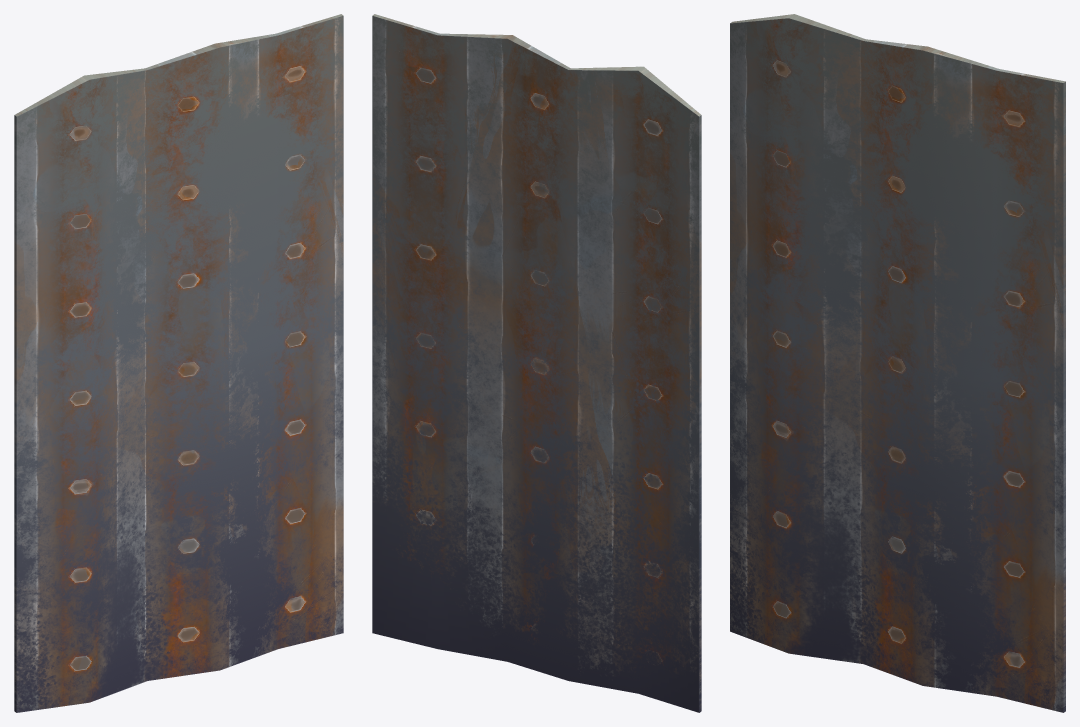
Rendered from MetalPlank1.glb.
The picture shows the model from 3 angles, left to right: view 1: azimuth 30°, elevation 25°; view 2: azimuth 150°, elevation 25°; view 3: azimuth 330°, elevation 25°; orthographic projection.
Visible parts, largest first — view 1: MetalPlank1; view 2: MetalPlank1; view 3: MetalPlank1.
Boxes of the visible parts, <box> form: MetalPlank1: <box>14,14,343,712</box>; MetalPlank1: <box>372,14,701,712</box>; MetalPlank1: <box>730,14,1065,712</box>.
Size of the model in its own units: 1.16 by 2.11 by 0.0615.
Materials: 1 (1 with a texture image).
